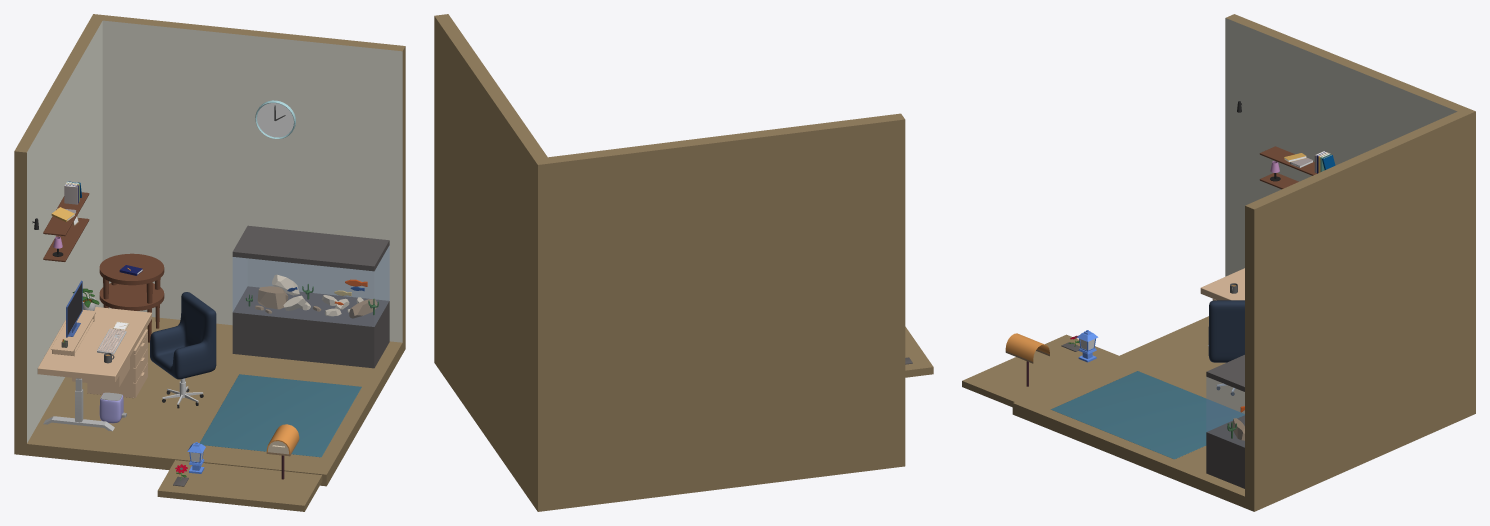
File: FinalRoom.glb
3 renders of one model, left to right at view 1: azimuth 30°, elevation 25°; view 2: azimuth 150°, elevation 25°; view 3: azimuth 270°, elevation 25°, orthographic. The views are drawn at different scales.
Parts seen in each view (by area): view 1: Cube, Cube.124, Fishpound Glass, Plane, Side Floor, Table Top, Chair Seat, Round Table Top, Round Table Base, Cylinder.006, Table Top Small, Drawer Body (+8 smaller); view 2: Cube, Side Floor; view 3: Cube, Plane, Side Floor, Cube.124, Chair Seat, Fishpound Glass, Table Top, Cylinder.007.
Part boxes in pixels (<box>): Cube: <box>14,14,405,486</box>; Cube.124: <box>232,225,389,368</box>; Fishpound Glass: <box>233,246,389,326</box>; Plane: <box>200,374,361,457</box>; Side Floor: <box>157,460,322,511</box>; Table Top: <box>37,307,151,381</box>; Chair Seat: <box>150,292,216,379</box>; Round Table Top: <box>99,253,164,285</box>; Round Table Base: <box>99,283,164,310</box>; Cylinder.006: <box>255,100,295,138</box>; Table Top Small: <box>51,310,95,356</box>; Drawer Body: <box>87,329,147,398</box>; Cube: <box>434,14,905,511</box>; Side Floor: <box>905,326,933,377</box>; Cube: <box>1012,14,1475,511</box>; Plane: <box>1051,371,1244,459</box>; Side Floor: <box>962,334,1118,407</box>; Cube.124: <box>1206,355,1244,488</box>; Chair Seat: <box>1208,300,1244,362</box>; Fishpound Glass: <box>1206,377,1244,446</box>; Table Top: <box>1200,268,1244,300</box>; Cylinder.007: <box>1005,333,1049,363</box>.
Bounding box in the file's own units: 16.39 × 11.82 × 18.2.
